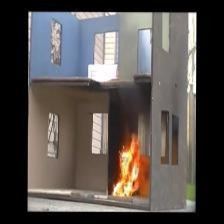fire: (112, 132, 152, 210)
